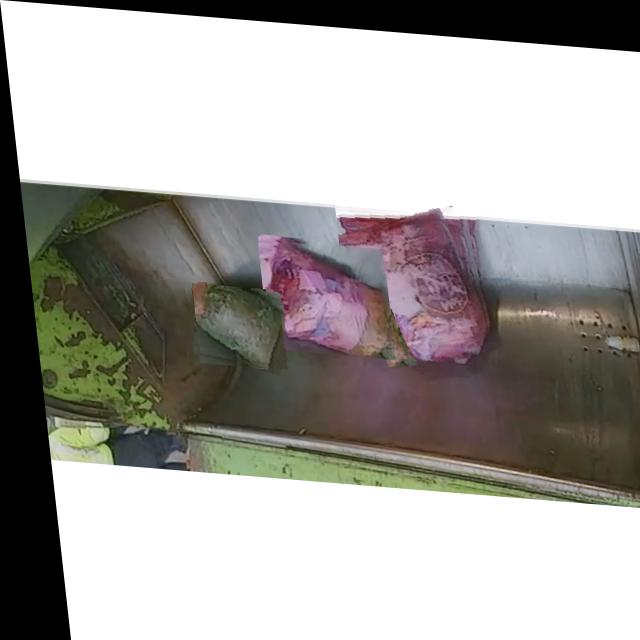general_trashbag: (188, 283, 277, 364)
other_trashbag: (333, 200, 481, 354), (260, 236, 384, 351)
